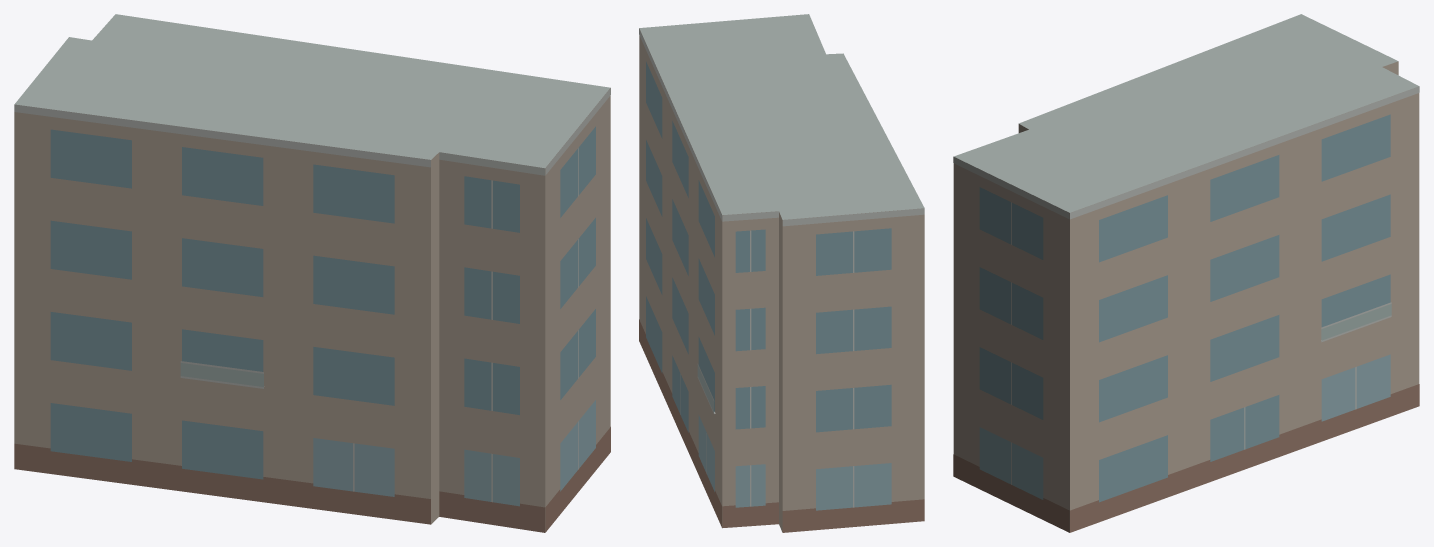
The model's file is survey-upis-32724454.glb.
The picture shows the model from 3 angles, left to right: view 1: azimuth 30°, elevation 25°; view 2: azimuth 150°, elevation 25°; view 3: azimuth 270°, elevation 25°; orthographic projection. The views are drawn at different scales.
Visible parts, largest first — view 1: survey-upis-32724454.tmp; view 2: survey-upis-32724454.tmp; view 3: survey-upis-32724454.tmp.
Boxes of the visible parts, x1,y1,x2,y2 form: survey-upis-32724454.tmp: (14,14,610,532); survey-upis-32724454.tmp: (639,14,924,532); survey-upis-32724454.tmp: (953,14,1419,532).
Size of the model in its own units: 15.74 by 11.8 by 15.58.
